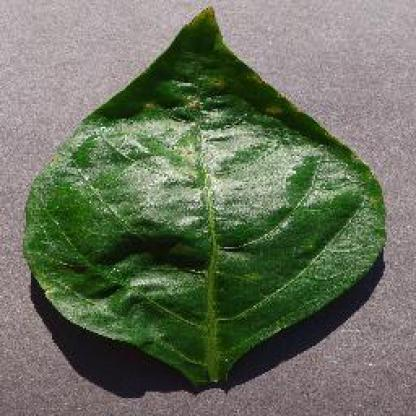good leaf: (38, 63, 365, 370)
